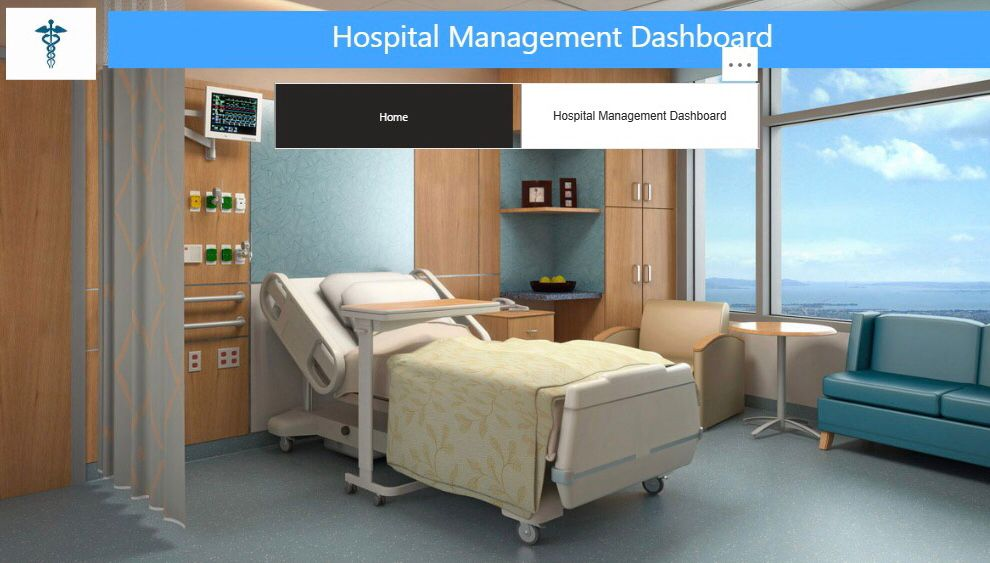

The dashboard page shown, as its layout file describes it:
{"tool":"powerbi","page":{"name":"Home","canvas":[1280,720],"ordinal":0},"visuals":[{"type":"image","box":[9.4,0,1269.9,720],"z":0},{"type":"textbox","box":[151.2,22.7,1128.2,71.8],"z":1000},{"type":"image","box":[22.7,0,113.4,128.5],"z":2000},{"type":"pageNavigator","box":[360.9,113.4,610.4,83.2],"z":3000}]}

Visuals, with their boxes on the page's 1280x720 design canvas (x1, y1, x2, y2). These are canvas units, not pixel positions in the 990x563 screenshot, which may show the page scaled, cropped or inside an application window:
image: <bbox>9, 0, 1279, 720</bbox>
textbox: <bbox>151, 23, 1279, 94</bbox>
image: <bbox>23, 0, 136, 128</bbox>
pageNavigator: <bbox>361, 113, 971, 197</bbox>
